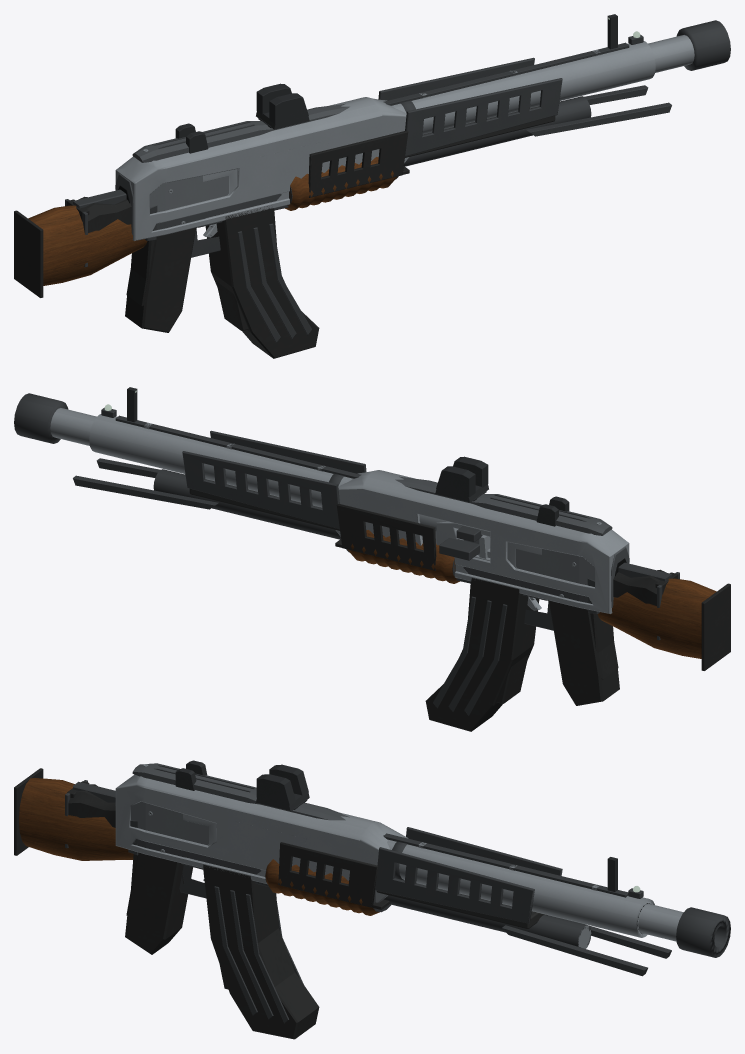
Rendered from weapons.glb.
3 views of the same model, one above another, from view 1: azimuth 30°, elevation 25°; view 2: azimuth 150°, elevation 25°; view 3: azimuth 330°, elevation 25° (orthographic).
Parts seen in each view (by area): view 1: machinegun-receiver, machinegun-curved-magazine, shotgun-barrel, machinegun-vented-handguard-1, shotgun-sculpted-stock, machinegun-pistol-grip, smg-vented-foreend-1, machinegun-feed-cover, shotgun-recoil-pad, machinegun-receiver-opposite-wall, shotgun-magazine-tube, machinegun-receiver-rear-stamping-pocket-floor-1 (+17 smaller); view 2: machinegun-receiver, machinegun-curved-magazine, shotgun-barrel, machinegun-vented-handguard--1, shotgun-sculpted-stock, machinegun-pistol-grip, smg-vented-foreend--1, machinegun-feed-cover, shotgun-recoil-pad, shotgun-magazine-tube, machinegun-receiver-rear-stamping-pocket-floor--1, machinegun-flash-hider (+18 smaller); view 3: machinegun-receiver, machinegun-curved-magazine, shotgun-barrel, shotgun-sculpted-stock, machinegun-vented-handguard-1, machinegun-pistol-grip, smg-vented-foreend-1, machinegun-feed-cover, shotgun-magazine-tube, machinegun-flash-hider, machinegun-receiver-opposite-wall, machinegun-receiver-rear-stamping-pocket-floor-1 (+16 smaller).
Boxes of the visible parts, left/top/right/bottom form: machinegun-receiver: left=115, top=97, right=409, bottom=240; machinegun-curved-magazine: left=205, top=206, right=319, bottom=358; shotgun-barrel: left=392, top=41, right=655, bottom=134; machinegun-vented-handguard-1: left=405, top=78, right=562, bottom=156; shotgun-sculpted-stock: left=28, top=205, right=147, bottom=285; machinegun-pistol-grip: left=125, top=227, right=196, bottom=332; smg-vented-foreend-1: left=308, top=130, right=408, bottom=197; machinegun-feed-cover: left=132, top=103, right=349, bottom=162; shotgun-recoil-pad: left=14, top=210, right=43, bottom=297; machinegun-receiver-opposite-wall: left=254, top=140, right=328, bottom=190; shotgun-magazine-tube: left=404, top=96, right=591, bottom=166; machinegun-receiver-rear-stamping-pocket-floor-1: left=150, top=176, right=228, bottom=212; machinegun-receiver: left=335, top=470, right=629, bottom=613; machinegun-curved-magazine: left=425, top=578, right=539, bottom=731; shotgun-barrel: left=89, top=414, right=447, bottom=531; machinegun-vented-handguard--1: left=182, top=451, right=339, bottom=529; shotgun-sculpted-stock: left=597, top=578, right=716, bottom=658; machinegun-pistol-grip: left=548, top=600, right=619, bottom=705; smg-vented-foreend--1: left=336, top=503, right=436, bottom=570; machinegun-feed-cover: left=395, top=476, right=612, bottom=535; shotgun-recoil-pad: left=701, top=583, right=730, bottom=670; shotgun-magazine-tube: left=153, top=469, right=340, bottom=539; machinegun-receiver-rear-stamping-pocket-floor--1: left=507, top=542, right=594, bottom=585; machinegun-flash-hider: left=14, top=393, right=68, bottom=443; machinegun-receiver: left=115, top=774, right=408, bottom=902; machinegun-curved-magazine: left=203, top=864, right=319, bottom=1039; shotgun-barrel: left=387, top=840, right=654, bottom=937; shotgun-sculpted-stock: left=19, top=778, right=133, bottom=860; machinegun-vented-handguard-1: left=375, top=847, right=534, bottom=923; machinegun-pistol-grip: left=125, top=852, right=192, bottom=954; smg-vented-foreend-1: left=278, top=842, right=378, bottom=907; machinegun-feed-cover: left=132, top=763, right=349, bottom=820; shotgun-magazine-tube: left=384, top=895, right=591, bottom=947; machinegun-flash-hider: left=676, top=907, right=730, bottom=957; machinegun-receiver-opposite-wall: left=232, top=821, right=305, bottom=866; machinegun-receiver-rear-stamping-pocket-floor-1: left=131, top=801, right=208, bottom=845.
Bounding box in the file's own units: 0.84 × 0.2945 × 0.077.
Materials: 3 (2 with a texture image).
